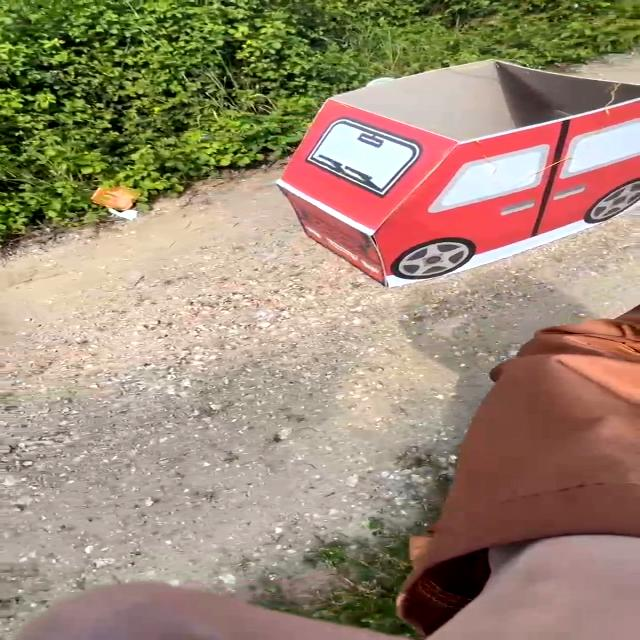red_car: (268, 34, 640, 306)
